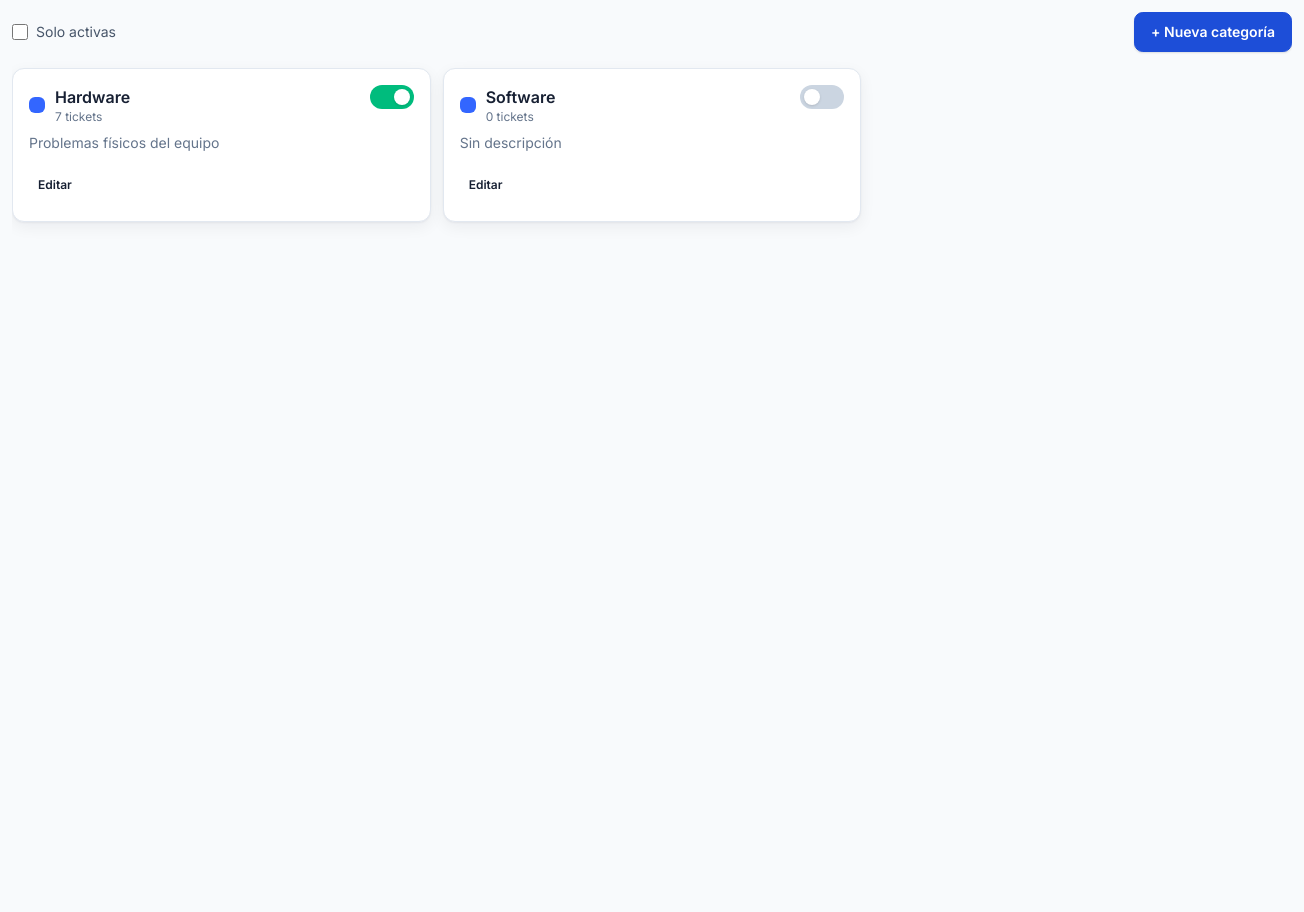
Test case: Categories · avisos de éxito › avisa cuando se desactiva una categoría
This screenshot has width=1304, height=912.
Expected: the text "Hardware" is shown, [55,85,130,109]
Click the switch named "Hardware". click: {"x": 392, "y": 97}
box: [370,85,414,109]
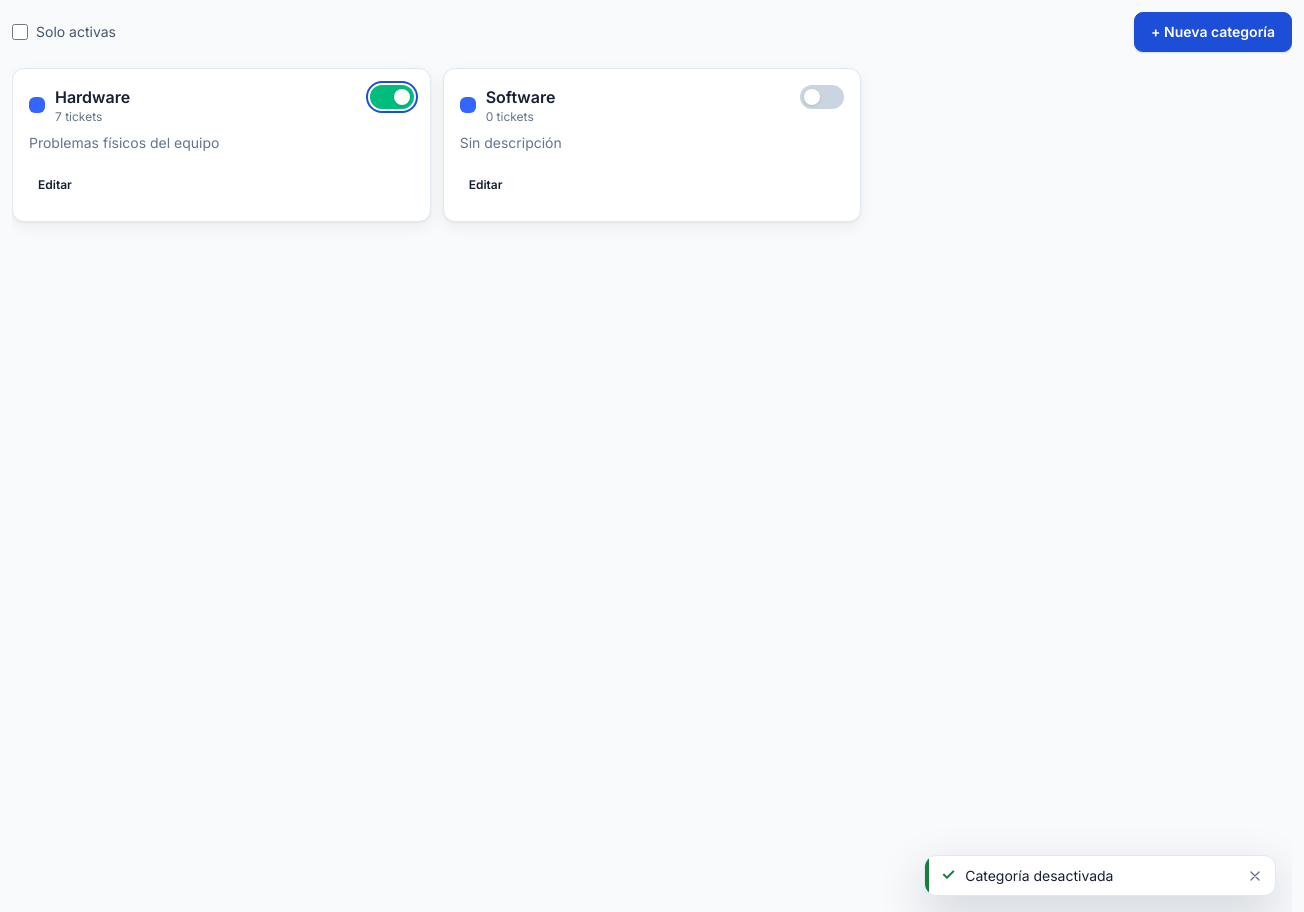
Expected: the text "Categoría desactivada" is shown, [964,866,1114,884]
